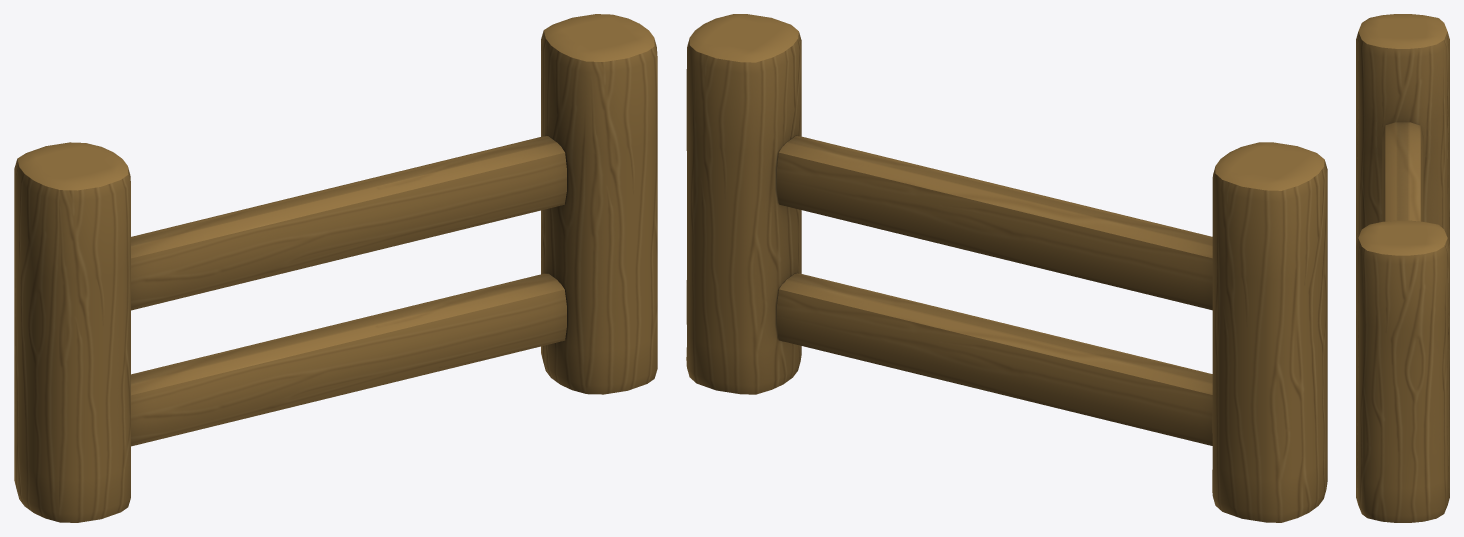
File: Fence.fbx
3 views of the same model, side by side, from view 1: azimuth 30°, elevation 25°; view 2: azimuth 150°, elevation 25°; view 3: azimuth 270°, elevation 25° (orthographic). The views are drawn at different scales.
Parts seen in each view (by area): view 1: Box003, Box004; view 2: Box003, Box004; view 3: Box004, Box003.
Boxes of the visible parts, x1,y1,x2,y2 form: Box003: (14, 136, 566, 522); Box004: (541, 14, 657, 394); Box003: (777, 136, 1327, 522); Box004: (686, 14, 801, 394); Box004: (1356, 220, 1449, 522); Box003: (1356, 14, 1449, 245).
Size of the model in its own units: 62.73 by 32.78 by 10.22.
